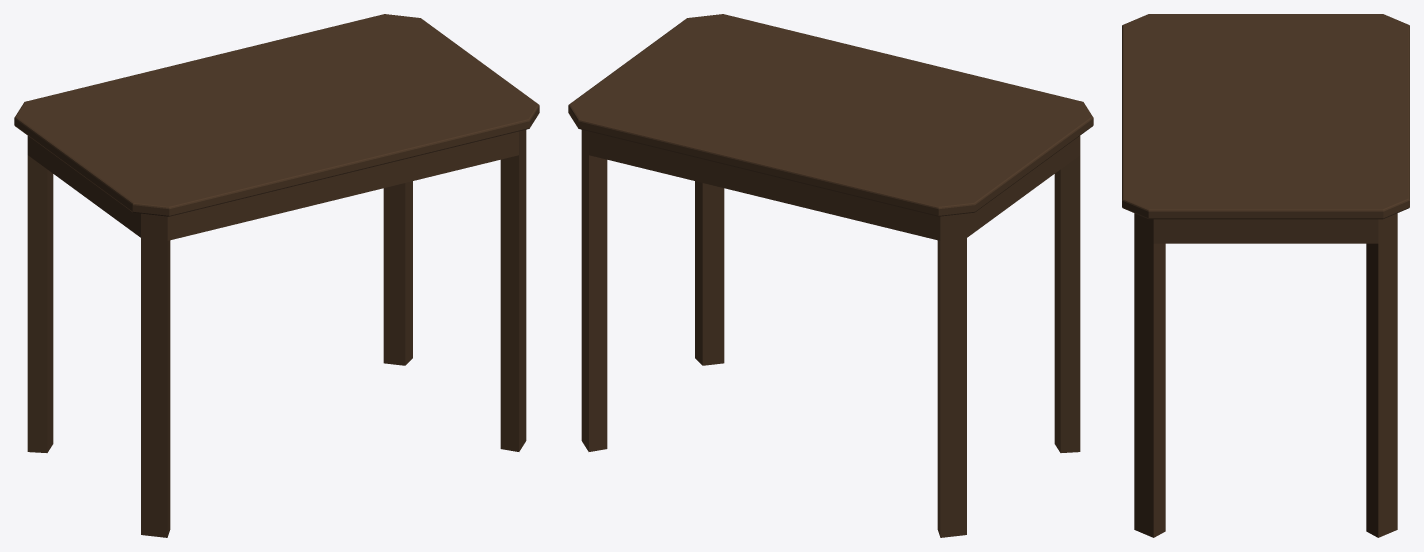
The model's file is Table.fbx.
3 views of the same model, side by side, from view 1: azimuth 30°, elevation 25°; view 2: azimuth 150°, elevation 25°; view 3: azimuth 270°, elevation 25° (orthographic).
Parts seen in each view (by area): view 1: Cube; view 2: Cube; view 3: Cube.
Part boxes in pixels (bbox=[...]): Cube: bbox=[14, 14, 539, 537]; Cube: bbox=[568, 14, 1093, 537]; Cube: bbox=[1122, 14, 1409, 537].
Bounding box in the file's own units: 94.2 × 74.33 × 58.24.
